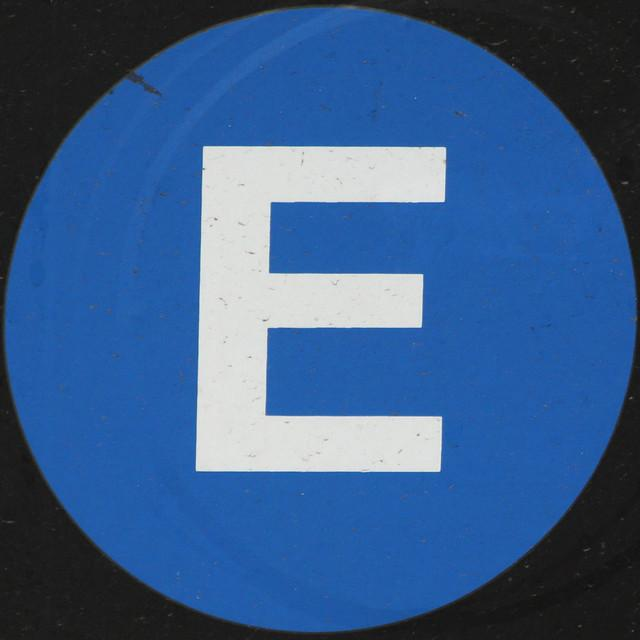E: (183, 107, 485, 529)
